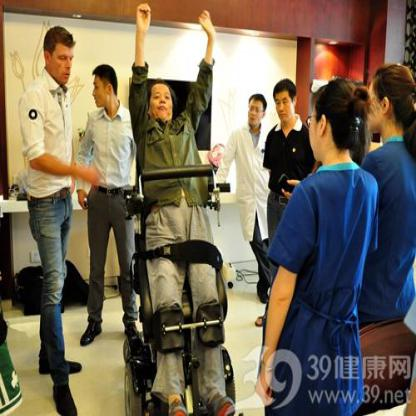people: (265, 77, 367, 415), (17, 19, 87, 415), (259, 76, 325, 382), (362, 50, 415, 415), (77, 61, 138, 354), (225, 83, 282, 311)
peopleWithWheelchair: (123, 4, 236, 415)
